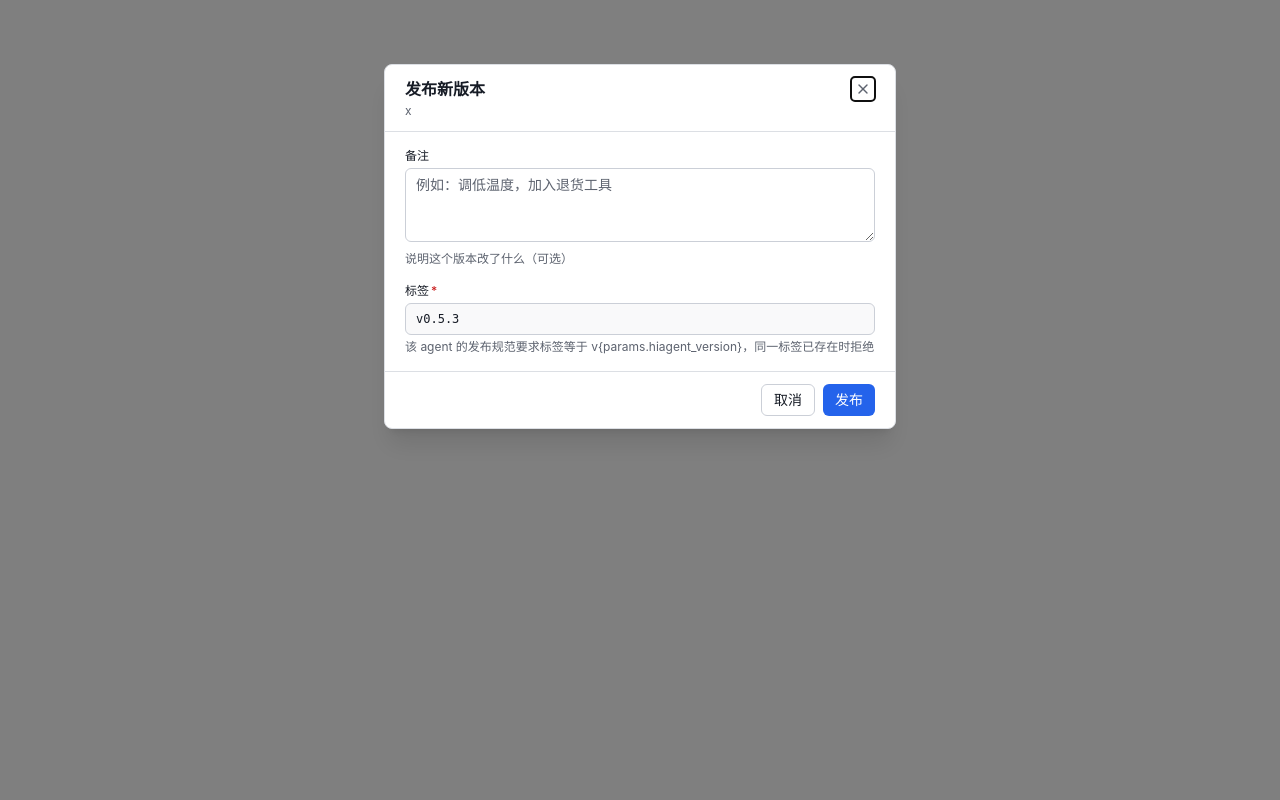
Test: PublishDialog 与发布规范 › 服务端拒绝（CONVENTION_VIOLATION）时把说明显示在对话框里
Click the button "发布".
click(849, 400)  # box [823,384,875,416]
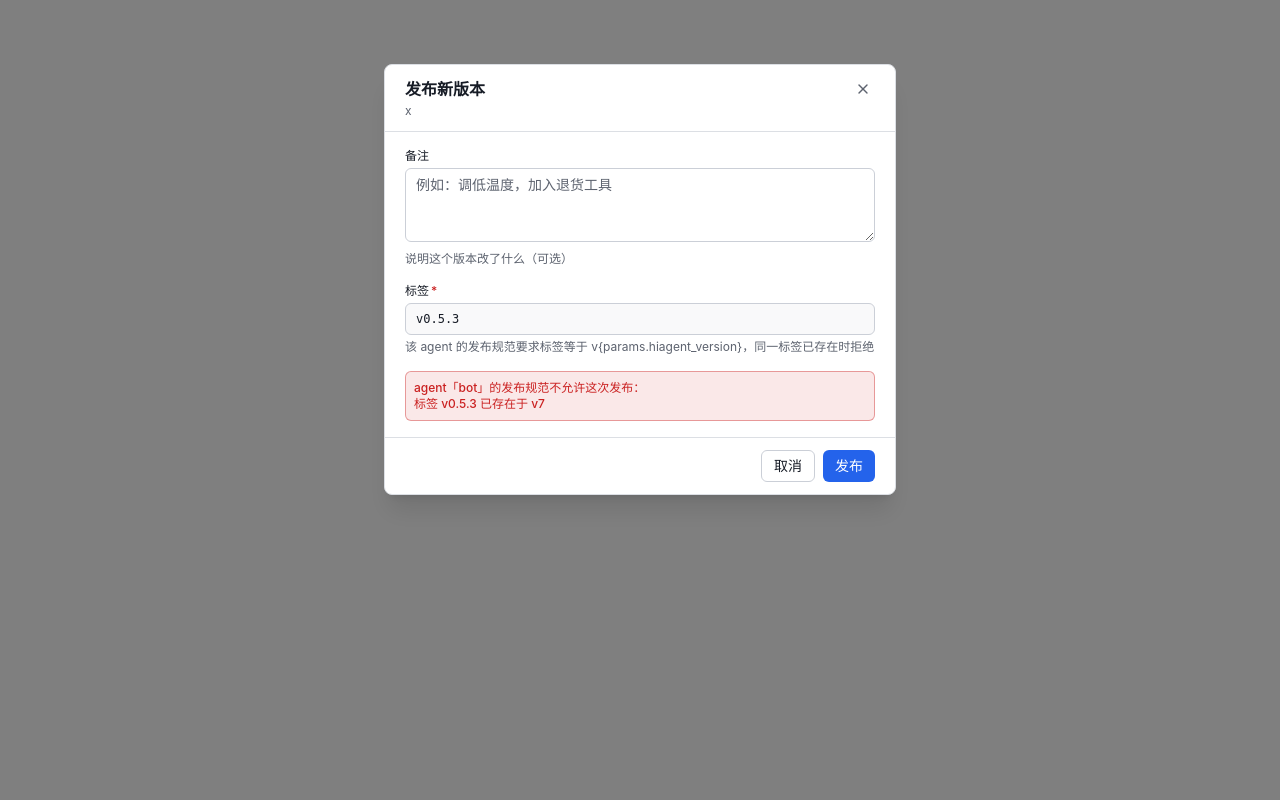
Now the message shows "标签 v0.5.3 已存在于 v7", box [414,380,645,411]
